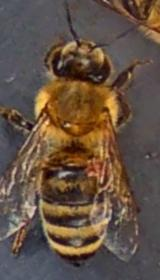varroa_mite: (82, 148, 110, 180)
